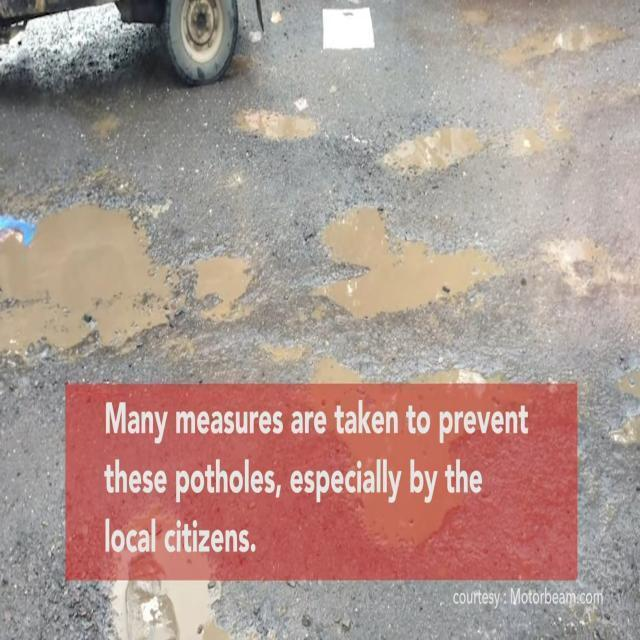Pothole: (4, 203, 256, 356), (304, 202, 501, 321), (383, 127, 490, 190), (512, 19, 628, 73), (232, 108, 320, 157)
